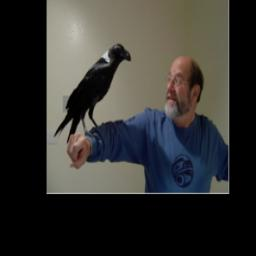Crow: (52, 39, 131, 143)
